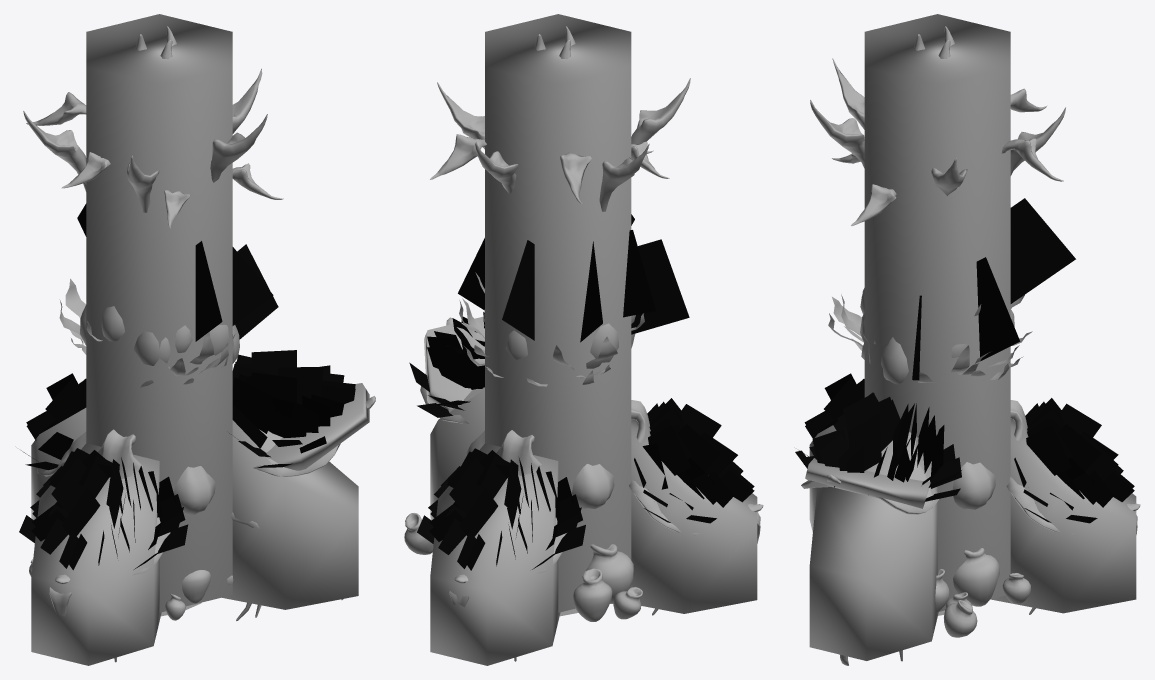
Rendered from benchChemXeno.fbx.
The picture shows the model from 3 angles, left to right: view 1: azimuth 30°, elevation 25°; view 2: azimuth 150°, elevation 25°; view 3: azimuth 270°, elevation 25°; orthographic projection.
Visible parts, largest first — view 1: benchChemXeno_COL, benchChemXeno_LOD0; view 2: benchChemXeno_COL, benchChemXeno_LOD0; view 3: benchChemXeno_COL, benchChemXeno_LOD0.
Part boxes in pixels (x1=…): benchChemXeno_COL: x1=31, y1=14, x2=369, y2=665; benchChemXeno_LOD0: x1=19, y1=26, x2=375, y2=662; benchChemXeno_COL: x1=424, y1=14, x2=757, y2=665; benchChemXeno_LOD0: x1=404, y1=26, x2=763, y2=661; benchChemXeno_COL: x1=805, y1=14, x2=1136, y2=660; benchChemXeno_LOD0: x1=795, y1=26, x2=1140, y2=665.
Size of what is drawn, in the model's own units: 4.91 by 8.26 by 4.41.
